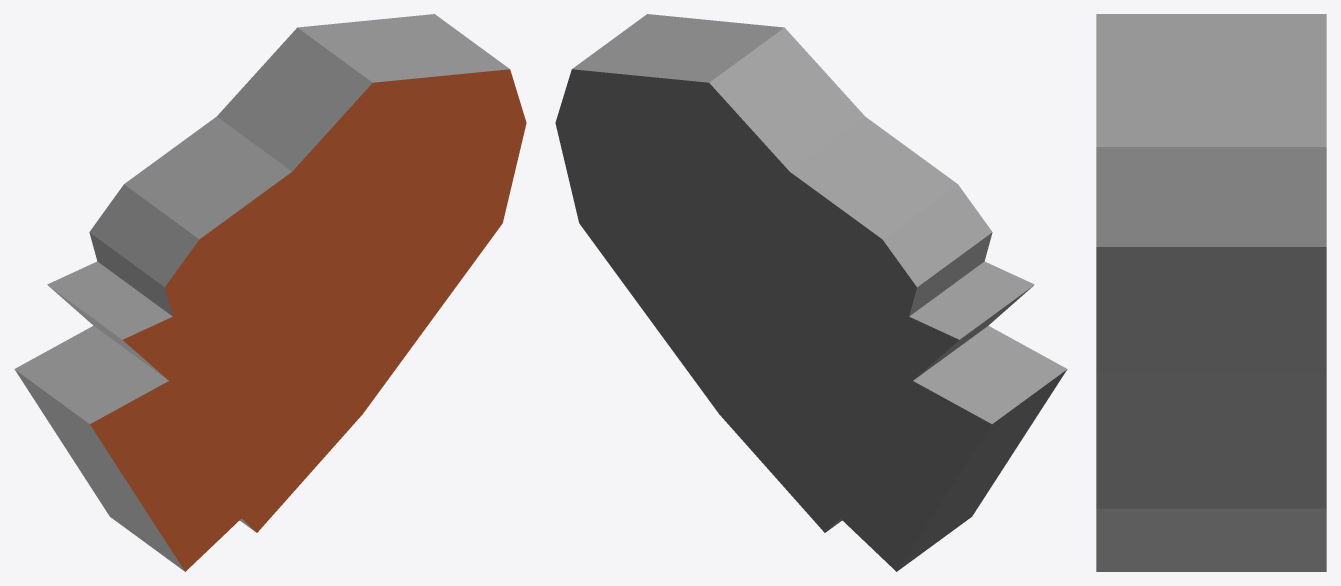
Rendered from construction_0859_assumed_A_Capela_h6m.obj.
The picture shows the model from 3 angles, left to right: view 1: azimuth 30°, elevation 25°; view 2: azimuth 150°, elevation 25°; view 3: azimuth 270°, elevation 25°; orthographic projection. The views are drawn at different scales.
Visible parts, largest first — view 1: construction_0859_assumed_A_Capela; view 2: construction_0859_assumed_A_Capela; view 3: construction_0859_assumed_A_Capela.
Part boxes in pixels (x1=…): construction_0859_assumed_A_Capela: x1=14, y1=14, x2=526, y2=571; construction_0859_assumed_A_Capela: x1=555, y1=14, x2=1067, y2=571; construction_0859_assumed_A_Capela: x1=1096, y1=14, x2=1326, y2=571.
Size of the model in its own units: 20.04 by 19.45 by 6.
